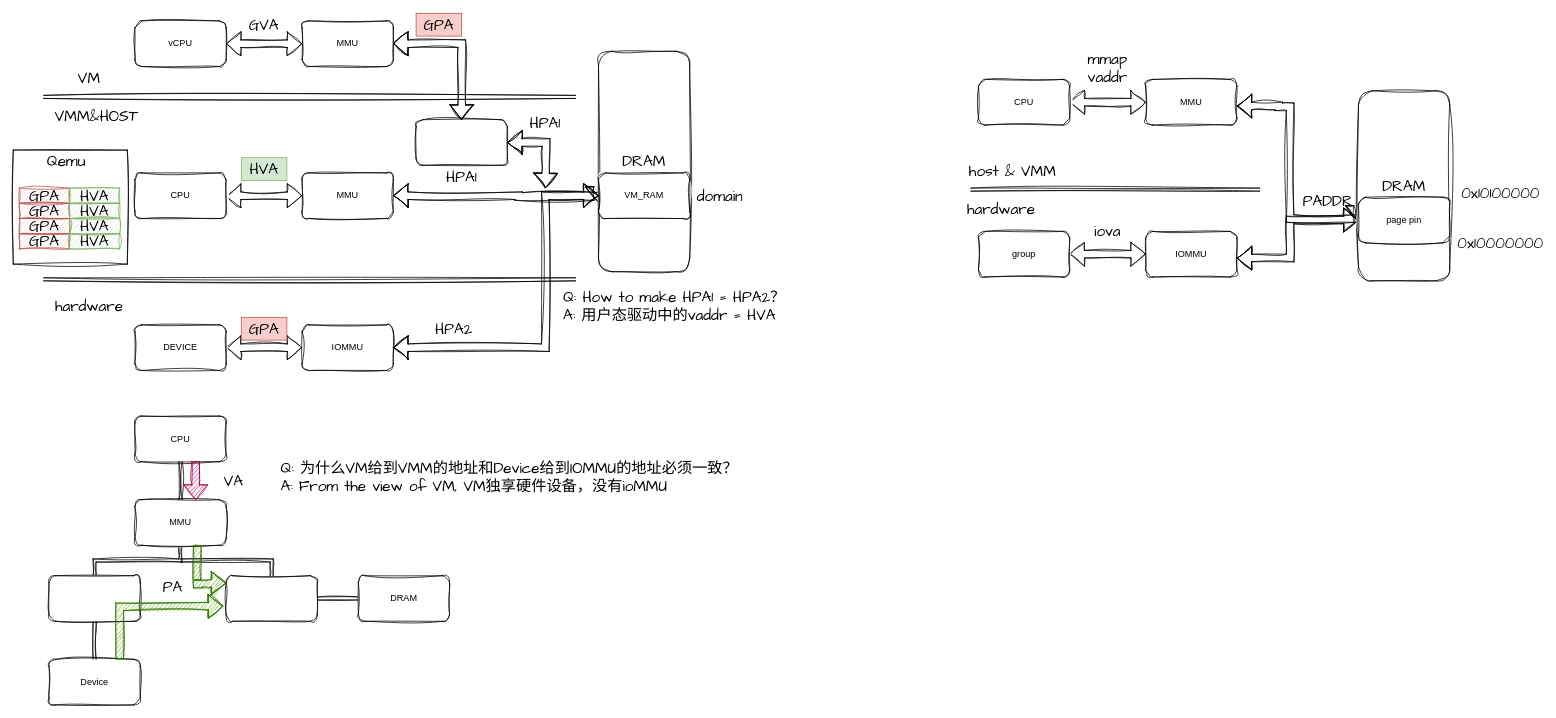
Some shapes in this 1556 by 718 pixel diagram are drawn without their labels. Here are the shapes that lost their labels. From the top down, the centre of each, then its label:
point 461,142: EPT
point 94,598: RC
point 271,598: MC
